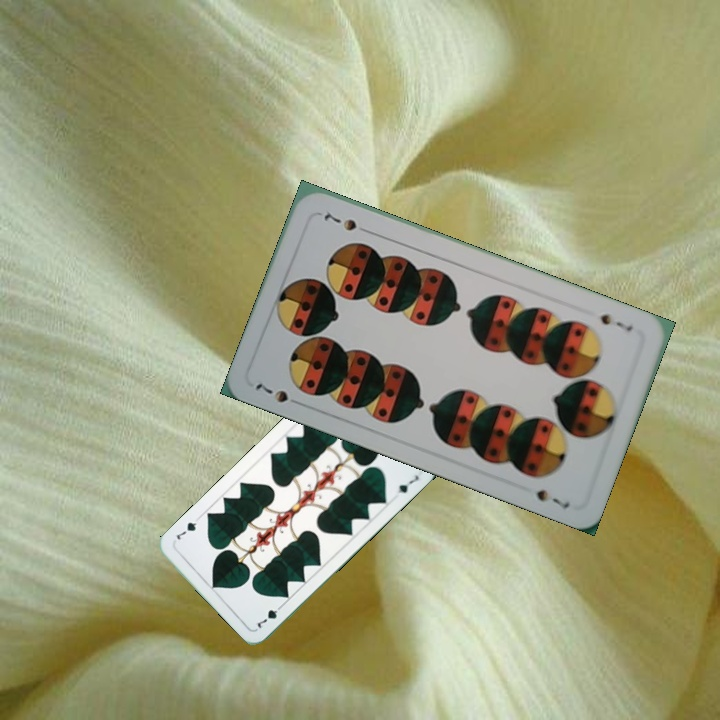G7: (252, 600, 286, 631)
S7: (251, 379, 306, 409), (595, 309, 636, 334)
